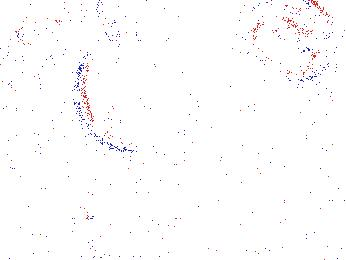moon jellyfish: (79, 31, 198, 151), (240, 1, 335, 79), (71, 1, 136, 64)
